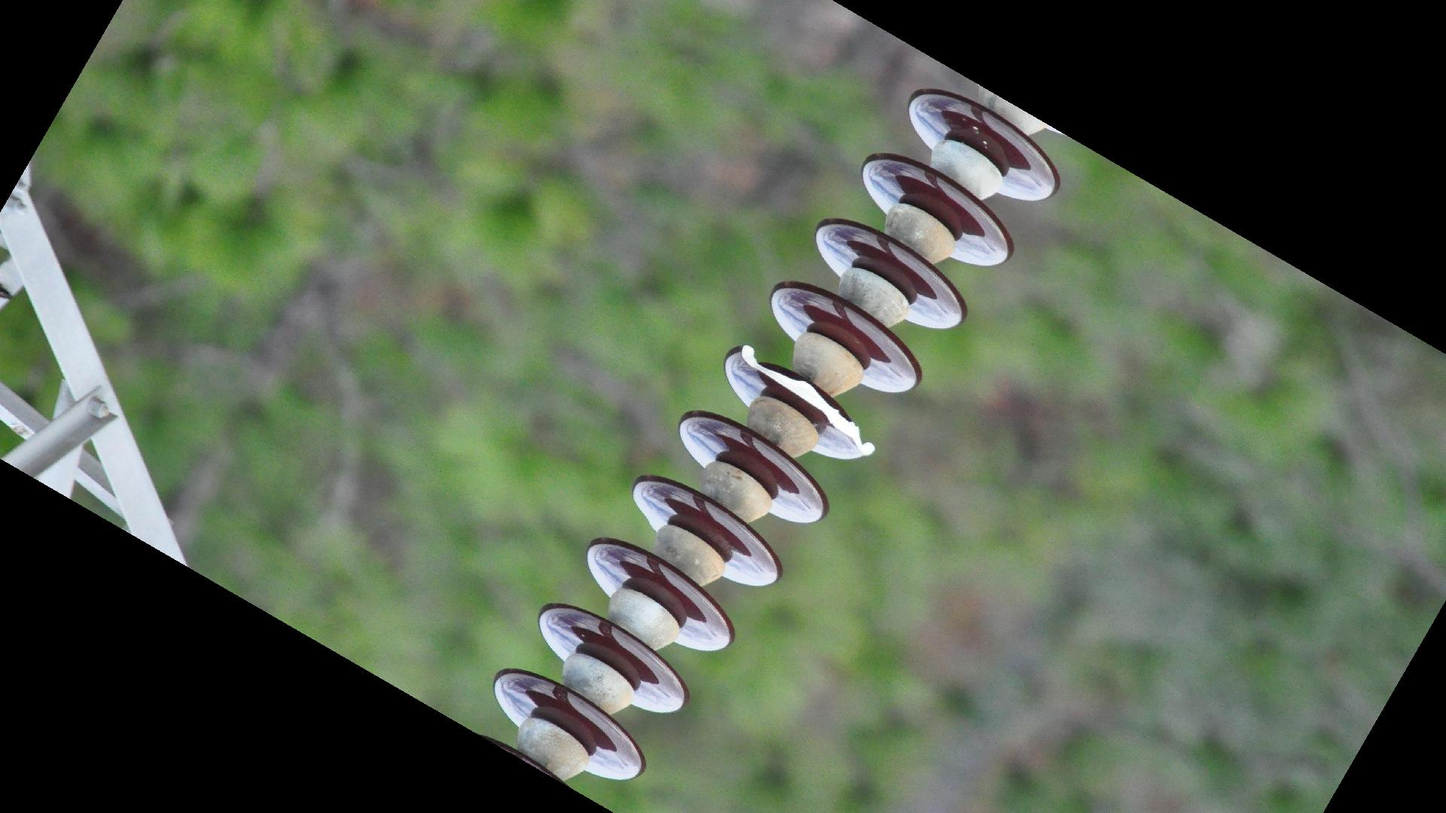insulator: (487, 78, 1065, 787)
insulator_breakage: (730, 337, 884, 465)
